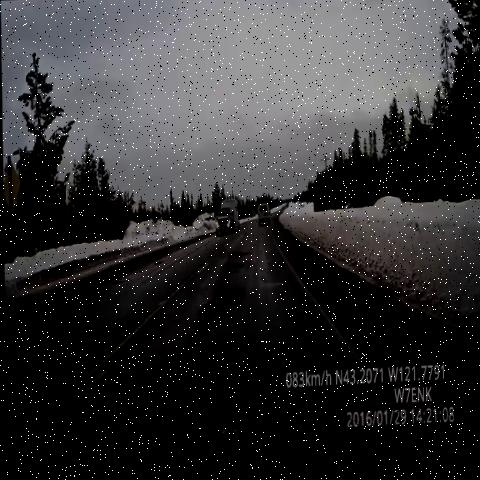pothole: (221, 278, 251, 316), (229, 243, 255, 282)
